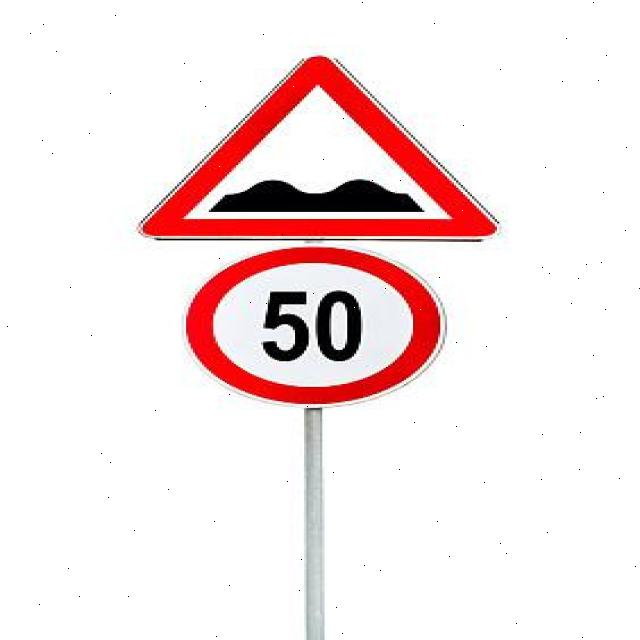speed limit 50: (179, 247, 445, 410)
